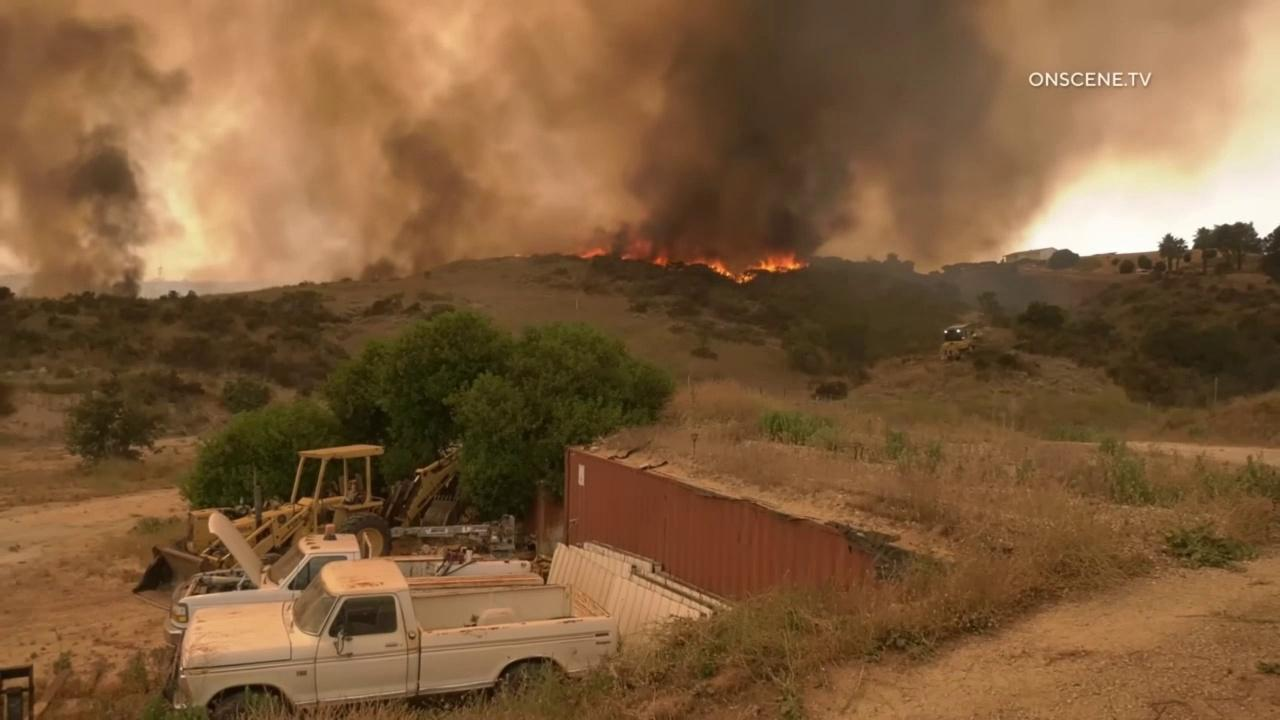fire: (620, 237, 811, 285), (578, 246, 607, 259)
smoke: (0, 0, 1276, 296)
